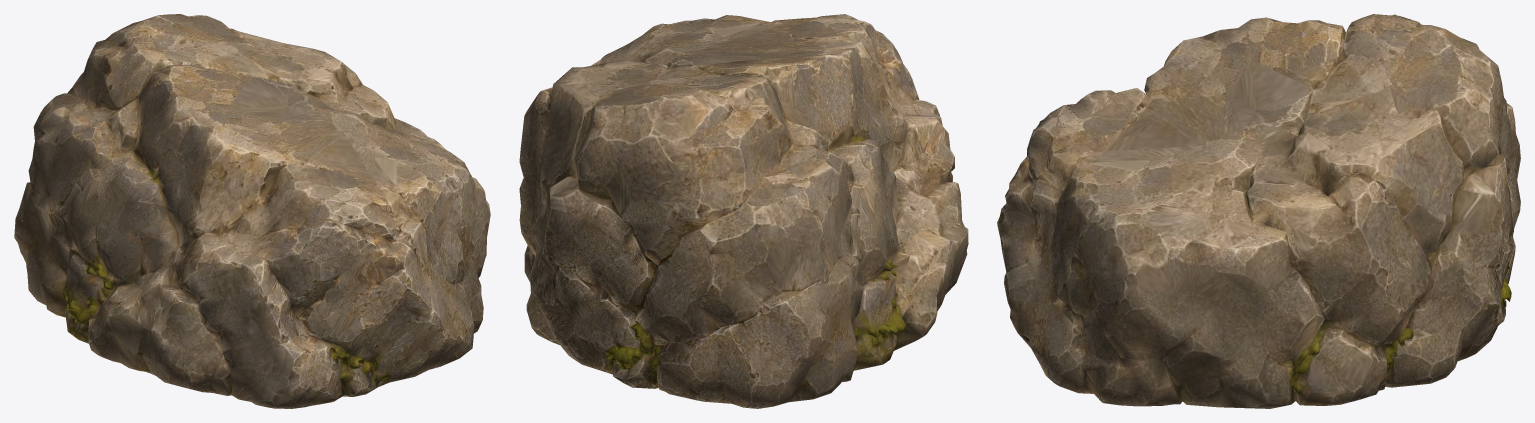
Rendered from rock-02.glb.
3 views of the same model, side by side, from view 1: azimuth 30°, elevation 25°; view 2: azimuth 150°, elevation 25°; view 3: azimuth 270°, elevation 25° (orthographic). The views are drawn at different scales.
Visible parts, largest first — view 1: nebeljagd-tripo-rock-02; view 2: nebeljagd-tripo-rock-02; view 3: nebeljagd-tripo-rock-02.
Boxes of the visible parts, box(x1,y1,x2,y2) form: nebeljagd-tripo-rock-02: box(14, 14, 490, 408); nebeljagd-tripo-rock-02: box(519, 14, 968, 408); nebeljagd-tripo-rock-02: box(997, 14, 1520, 408).
Bounding box in the file's own units: 1.86 × 1.31 × 2.2.
1 material, 1 textured.
